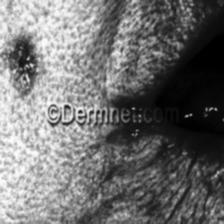Toxin: (0, 34, 40, 96), (117, 95, 153, 137)
